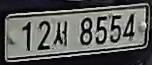1: (20, 20, 36, 53)
2: (36, 19, 52, 51)
4: (122, 12, 138, 40)
5: (94, 14, 109, 46), (108, 14, 123, 44)
8: (78, 15, 95, 47)
서: (52, 20, 71, 48)
